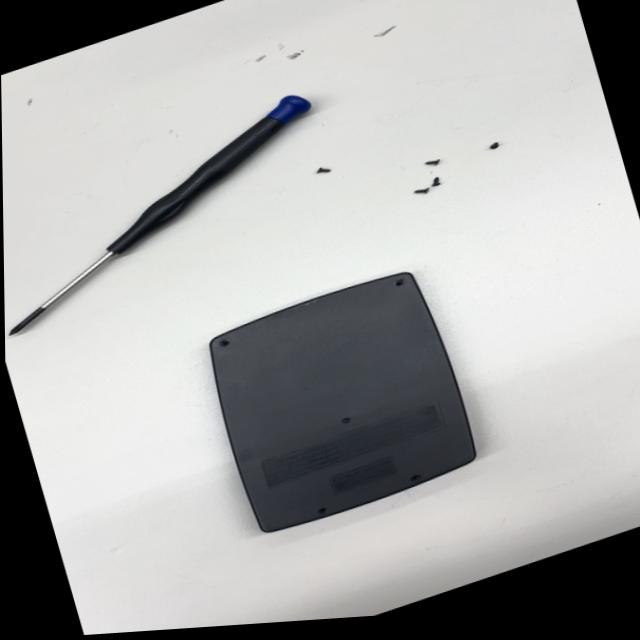back_cover: (192, 256, 488, 548)
screw: (478, 134, 511, 156), (311, 159, 336, 181), (420, 150, 442, 172), (408, 182, 432, 200), (427, 171, 448, 188)
screw_driver: (2, 86, 347, 336)
